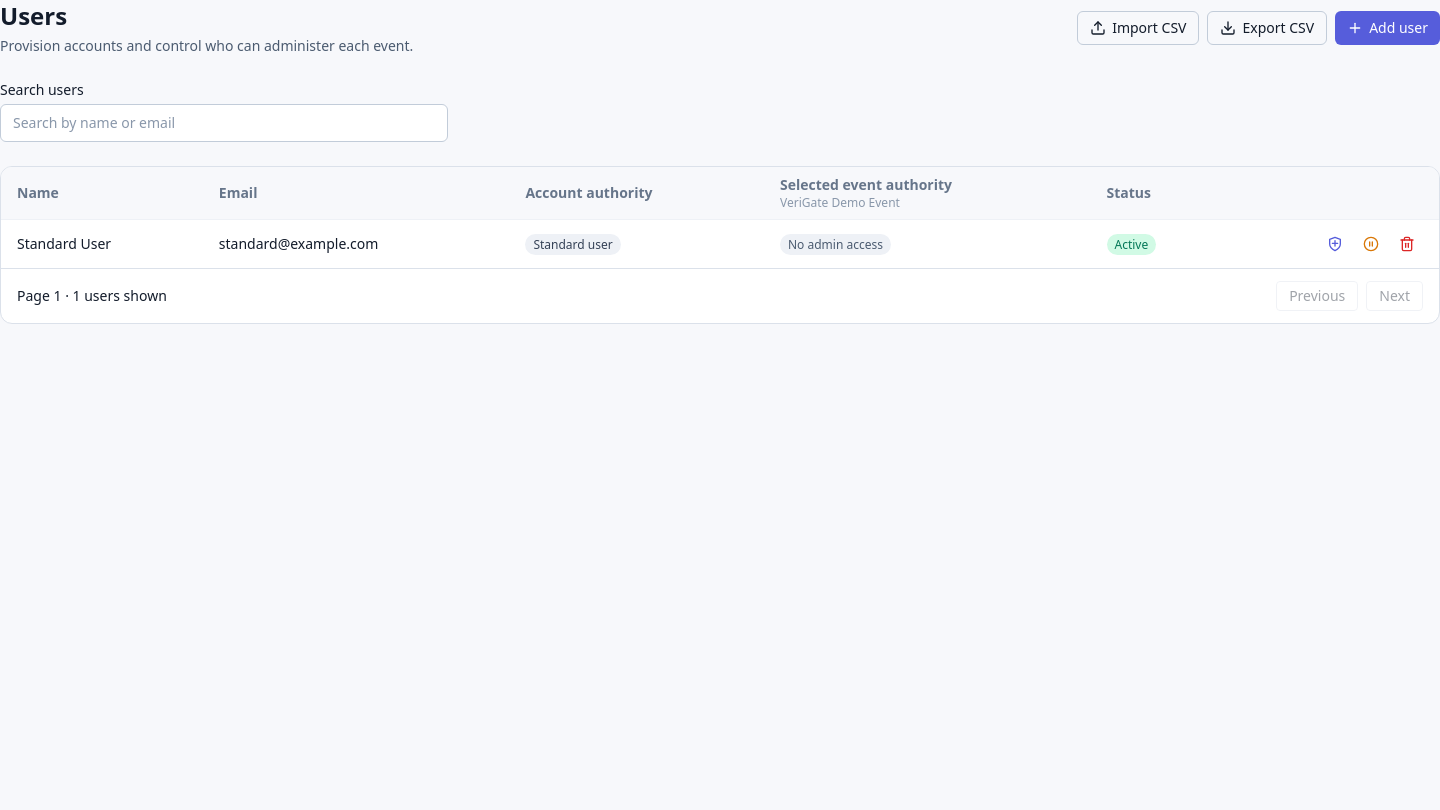
Test case: event administration membership management › surfaces a recoverable membership assignment failure
This screenshot has width=1440, height=810.
Click the button named "manage standard user event administrator access": (1335, 244) [1319,228,1351,260]
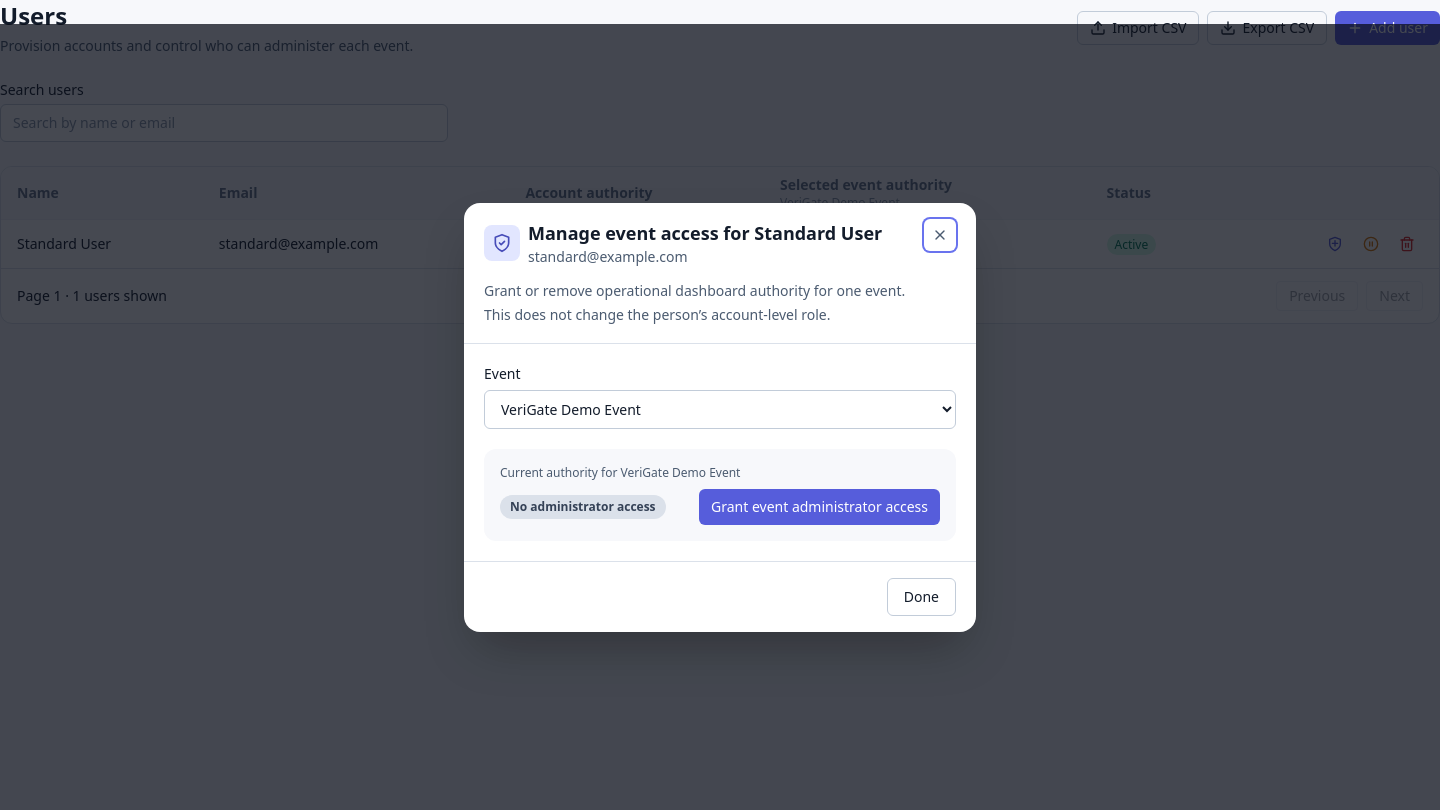
Click the button "Grant event administrator access": (820, 506) [699,488,940,524]
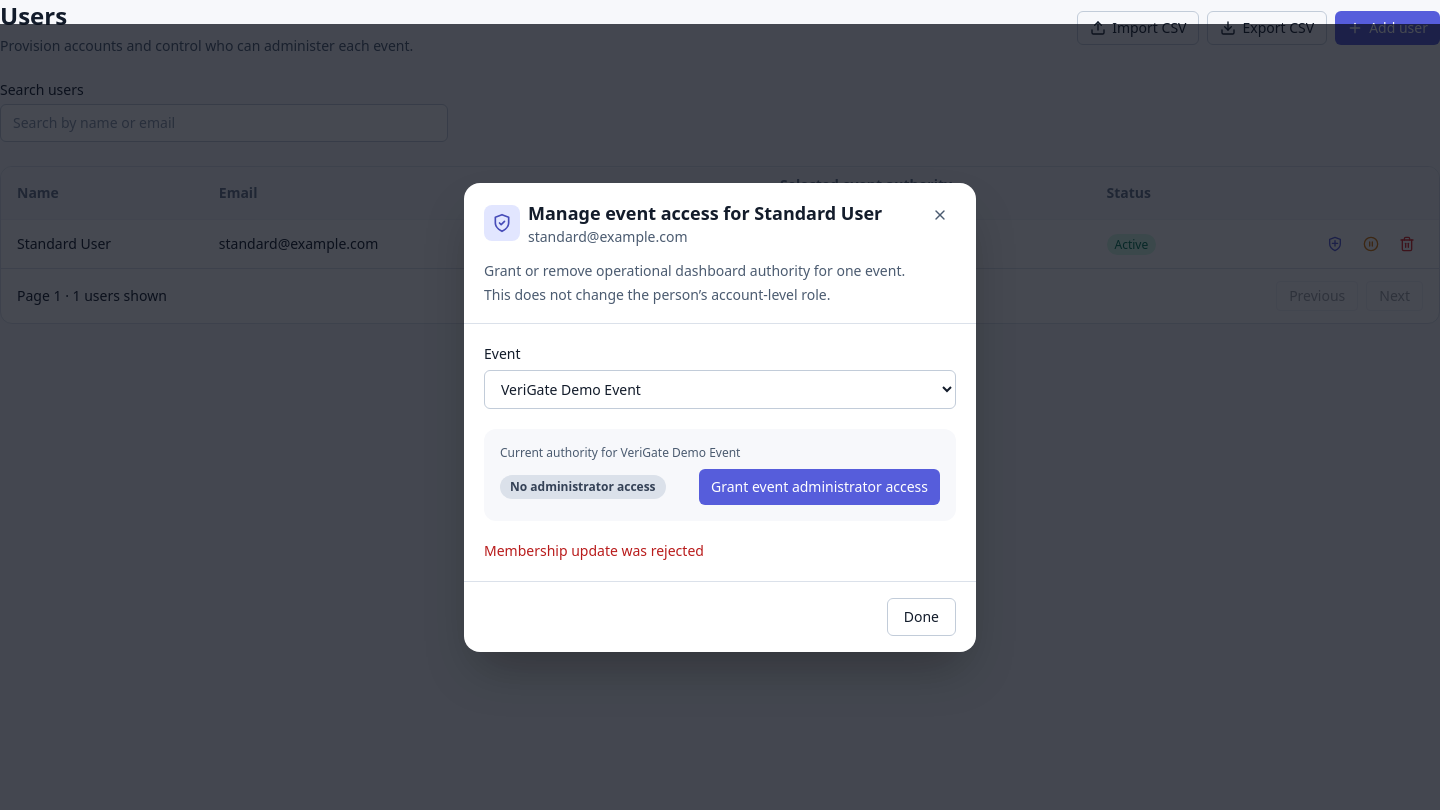
Expected: the button "Grant event administrator access" is enabled, [699,468,940,504]
Expected: the message reads "Membership update was rejected", [484,540,704,560]
